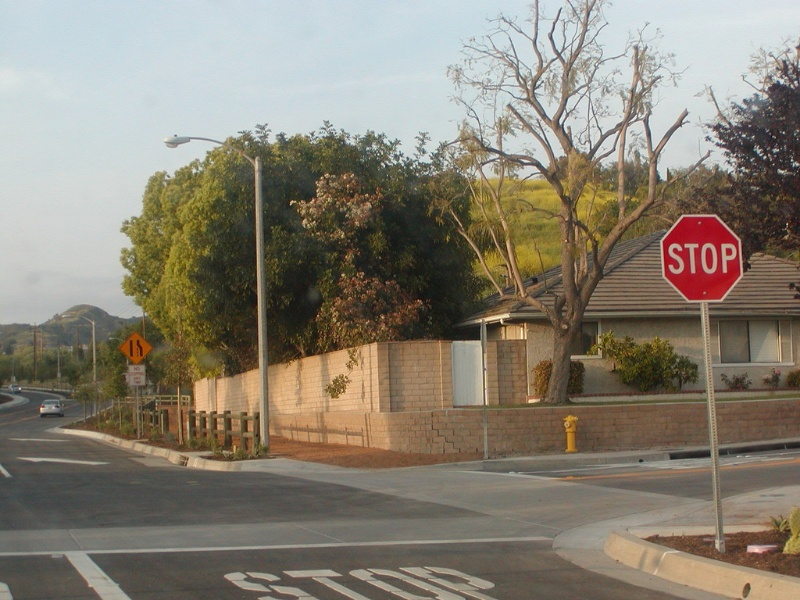stop sign: (656, 210, 746, 305)
